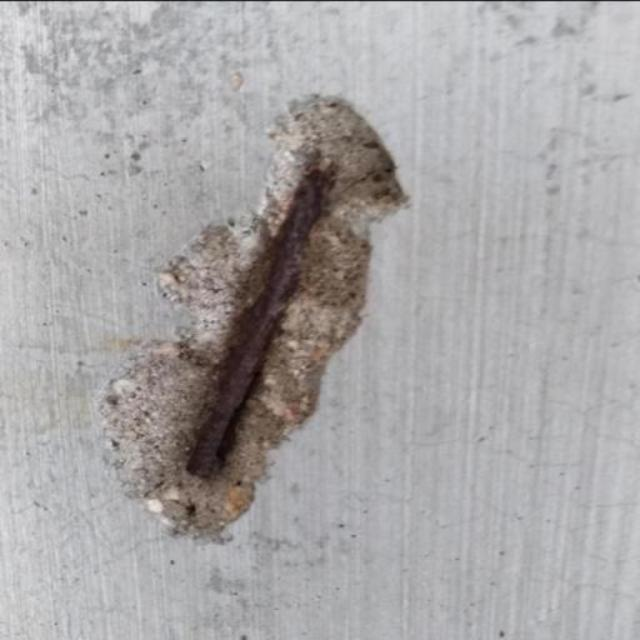D10: (98, 90, 409, 541)
